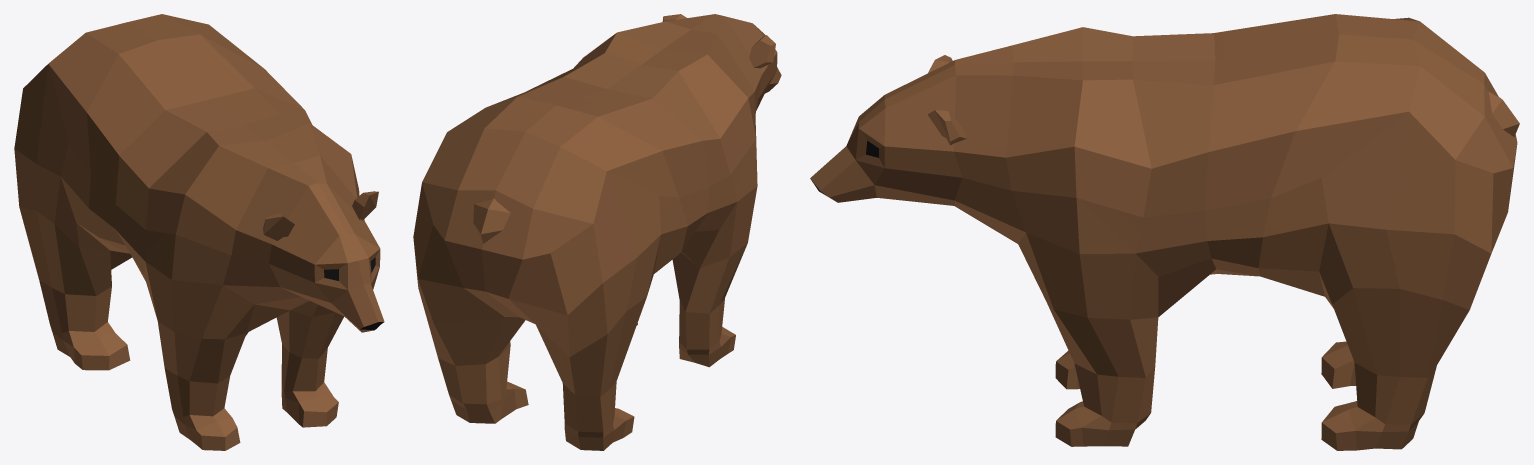
The model's file is animals_bear_brown.fbx.
3 renders of one model, left to right at view 1: azimuth 30°, elevation 25°; view 2: azimuth 150°, elevation 25°; view 3: azimuth 270°, elevation 25°, orthographic. The views are drawn at different scales.
Parts seen in each view (by area): view 1: animals_bear_brown; view 2: animals_bear_brown; view 3: animals_bear_brown.
Part boxes in pixels (x1,y1,x2,y2): animals_bear_brown: (14,14,384,450); animals_bear_brown: (413,14,781,450); animals_bear_brown: (810,14,1519,450).
Bounding box in the file's own units: 79.25 × 116 × 200.
